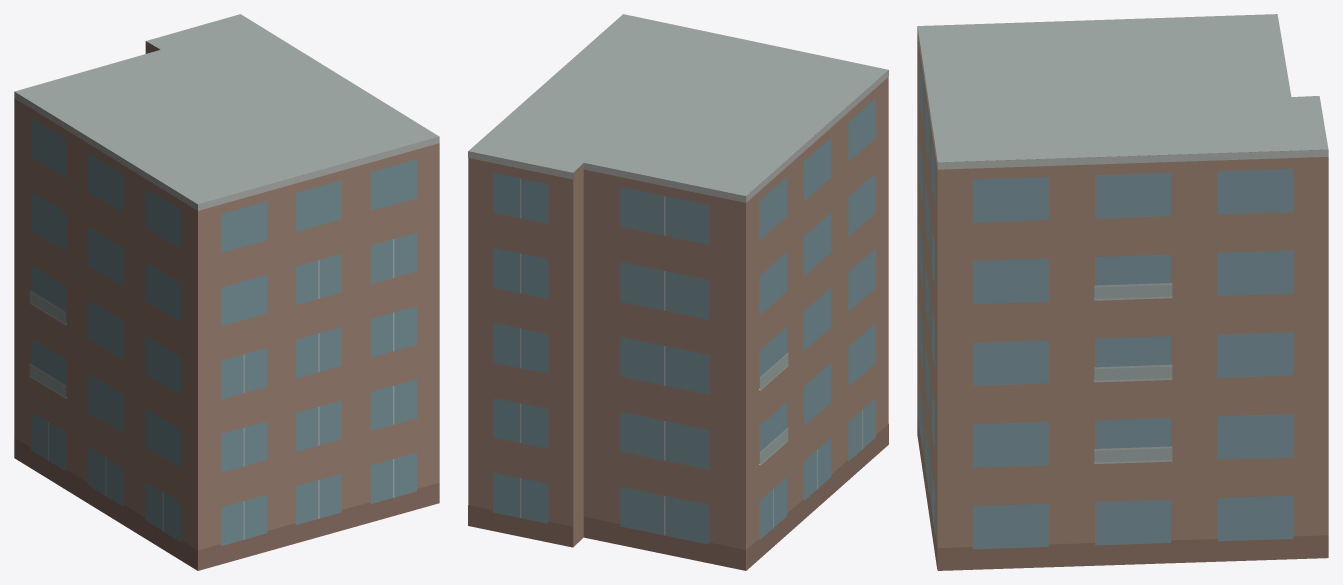
The model's file is survey-upis-32883297.glb.
3 renders of one model, left to right at view 1: azimuth 30°, elevation 25°; view 2: azimuth 150°, elevation 25°; view 3: azimuth 270°, elevation 25°, orthographic. The views are drawn at different scales.
Parts seen in each view (by area): view 1: survey-upis-32883297.tmp; view 2: survey-upis-32883297.tmp; view 3: survey-upis-32883297.tmp.
Boxes of the visible parts, x1,y1,x2,y2 form: survey-upis-32883297.tmp: (14, 14, 439, 570); survey-upis-32883297.tmp: (468, 14, 888, 570); survey-upis-32883297.tmp: (917, 14, 1328, 570).
Bounding box in the file's own units: 10.6 × 13.6 × 12.41.
